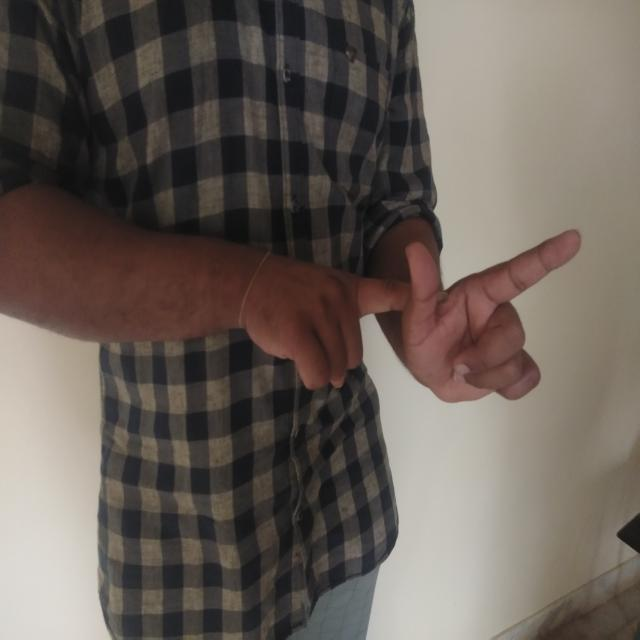Y: (229, 220, 613, 409)
